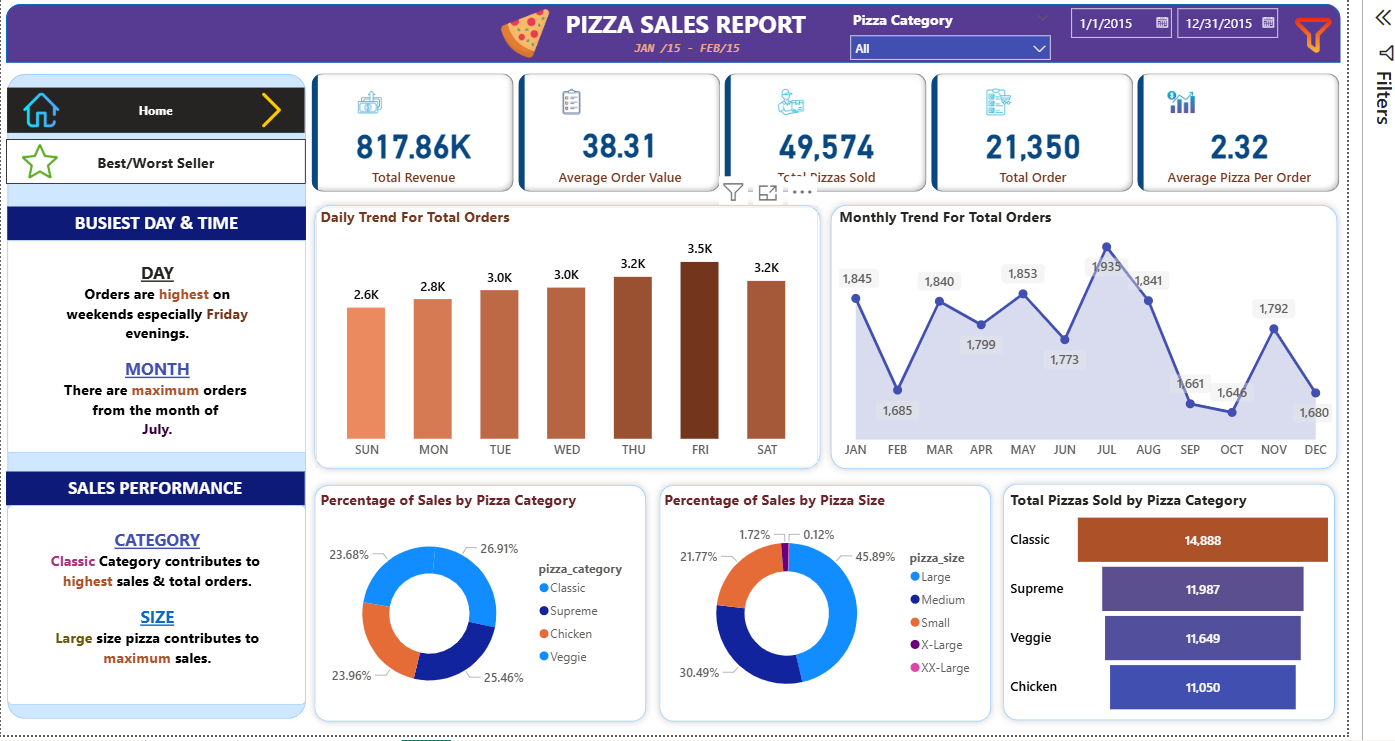

Layout of this report page (visuals, bound fields, positions):
{"tool":"powerbi","page":{"name":"Home","canvas":[1500,820],"ordinal":0},"visuals":[{"type":"cardVisual","fields":{"Data":["Pizza_Sales.Total Revenue","Pizza_Sales.Average Order Value","Pizza_Sales.Total Pizza Sold","Pizza_Sales.Total Order","Pizza_Sales.Average Pizza Per Order"]},"box":[341.7,78,1158.3,142],"z":0},{"type":"shape","box":[5.6,5.6,1486.9,65.4],"z":1000},{"type":"textbox","box":[623.7,4.2,321.6,45.9],"z":2000},{"type":"textbox","box":[700.3,40.4,136.4,32],"z":3000},{"type":"shape","box":[341.1,221.4,580,310.5],"z":4000},{"type":"columnChart","title":"Daily Trend For Total Orders","fields":{"Category":["Pizza_Sales.Order Day"],"Y":["Pizza_Sales.Total Order"]},"box":[350.8,231.1,560,291],"z":5000},{"type":"shape","box":[916.1,221.4,580.5,310.5],"z":6000},{"type":"areaChart","title":"Monthly Trend For Total Orders","fields":{"Category":["Pizza_Sales.Order Month"],"Y":["Pizza_Sales.Total Order"]},"box":[928.6,231.1,559.7,291],"z":7000},{"type":"shape","box":[341.1,533.2,385.6,279.8],"z":8000},{"type":"shape","box":[725.3,533.2,385.6,279.8],"z":9000},{"type":"shape","box":[1108.2,531.8,385.6,279.8],"z":10000},{"type":"donutChart","title":"Percentage of Sales by Pizza Category","fields":{"Category":["Pizza_Sales.pizza_category"],"Y":["Pizza_Sales.Total Revenue"]},"box":[350.8,545.7,362,256.2],"z":11000},{"type":"donutChart","title":"Percentage of Sales by Pizza Size","fields":{"Y":["Pizza_Sales.Total Revenue"],"Category":["Pizza_Sales.pizza_size"]},"box":[733.7,545.7,363.4,256.2],"z":12000},{"type":"funnel","title":"Total Pizzas Sold by Pizza Category","fields":{"Category":["Pizza_Sales.pizza_category"],"Y":["Pizza_Sales.Total Pizza Sold"]},"box":[1119.3,545.7,368.9,256.2],"z":13000},{"type":"shape","box":[7,83.5,332.7,718.4],"z":14000},{"type":"textbox","box":[7,231.1,332.7,37.6],"z":15000},{"type":"textbox","box":[7,268.7,332.7,236.7],"z":16000},{"type":"textbox","box":[5.6,526.2,332.7,37.6],"z":17000},{"type":"textbox","box":[7,563.8,332.7,222.8],"z":18000},{"type":"image","box":[548.5,5.6,71,65.4],"z":19000},{"type":"slicer","fields":{"Values":["Pizza_Sales.pizza_category"]},"box":[935.5,7,243.6,64],"z":20000},{"type":"slicer","fields":{"Values":["Pizza_Sales.order_date"]},"box":[1179.2,0,250.6,76.6],"z":21000},{"type":"image","box":[1428.4,4.2,66.8,71],"z":22000},{"type":"pageNavigator","box":[5.6,155.9,334.1,50.1],"z":23000},{"type":"pageNavigator","box":[7,98.8,331.3,50.1],"z":24000},{"type":"image","box":[15.3,98.8,58.5,50.1],"z":25000},{"type":"image","box":[264.5,98.8,73.8,50.1],"z":26000},{"type":"image","box":[9.8,155.9,66.8,50.1],"z":27000}]}

Visuals, with their boxes on the page's 1500x820 design canvas (x1, y1, x2, y2). These are canvas units, not pixel positions in the 1395x741 screenshot, which may show the page scaled, cropped or inside an application window:
cardVisual - Pizza_Sales.Total Revenue x Pizza_Sales.Average Order Value: <region>342, 78, 1500, 220</region>
shape: <region>6, 6, 1492, 71</region>
textbox: <region>624, 4, 945, 50</region>
textbox: <region>700, 40, 837, 72</region>
shape: <region>341, 221, 921, 532</region>
"Daily Trend For Total Orders" columnChart: <region>351, 231, 911, 522</region>
shape: <region>916, 221, 1497, 532</region>
"Monthly Trend For Total Orders" areaChart: <region>929, 231, 1488, 522</region>
shape: <region>341, 533, 727, 813</region>
shape: <region>725, 533, 1111, 813</region>
shape: <region>1108, 532, 1494, 812</region>
"Percentage of Sales by Pizza Category" donutChart: <region>351, 546, 713, 802</region>
"Percentage of Sales by Pizza Size" donutChart: <region>734, 546, 1097, 802</region>
"Total Pizzas Sold by Pizza Category" funnel: <region>1119, 546, 1488, 802</region>
shape: <region>7, 84, 340, 802</region>
textbox: <region>7, 231, 340, 269</region>
textbox: <region>7, 269, 340, 505</region>
textbox: <region>6, 526, 338, 564</region>
textbox: <region>7, 564, 340, 787</region>
image: <region>548, 6, 620, 71</region>
slicer - Pizza_Sales.pizza_category: <region>936, 7, 1179, 71</region>
slicer - Pizza_Sales.order_date: <region>1179, 0, 1430, 77</region>
image: <region>1428, 4, 1495, 75</region>
pageNavigator: <region>6, 156, 340, 206</region>
pageNavigator: <region>7, 99, 338, 149</region>
image: <region>15, 99, 74, 149</region>
image: <region>264, 99, 338, 149</region>
image: <region>10, 156, 77, 206</region>
